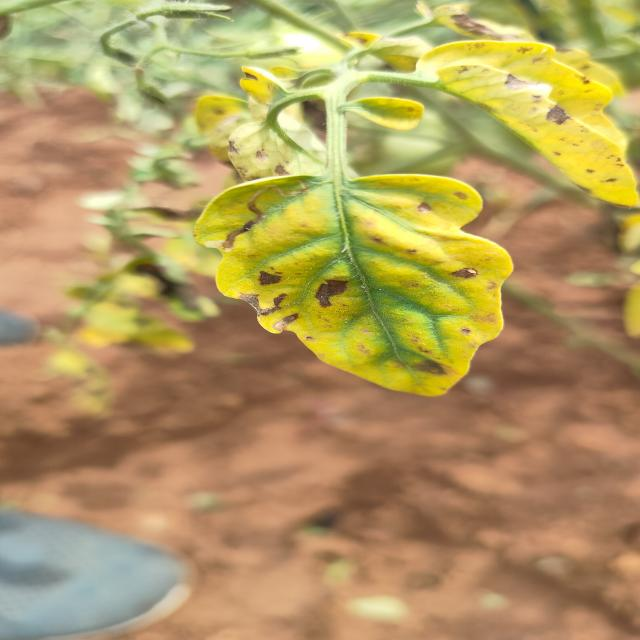tomato_early blight: (193, 174, 516, 397), (417, 38, 640, 202), (190, 56, 304, 202), (355, 100, 442, 128)
